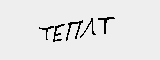Б: (99, 17, 118, 40)
Ж: (2, 11, 40, 29)
Ф: (75, 13, 100, 36)
Щ: (116, 21, 150, 47)
Я: (58, 11, 76, 32)
Ә: (39, 10, 61, 30)
